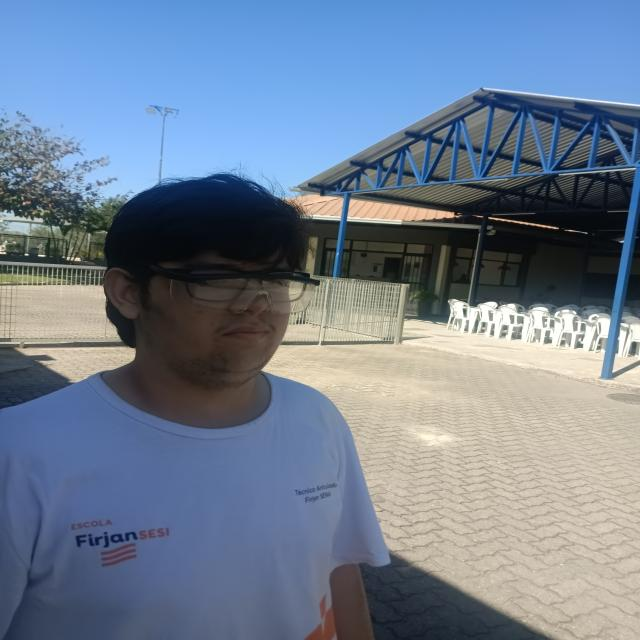oculos-epi: (151, 266, 320, 315)
